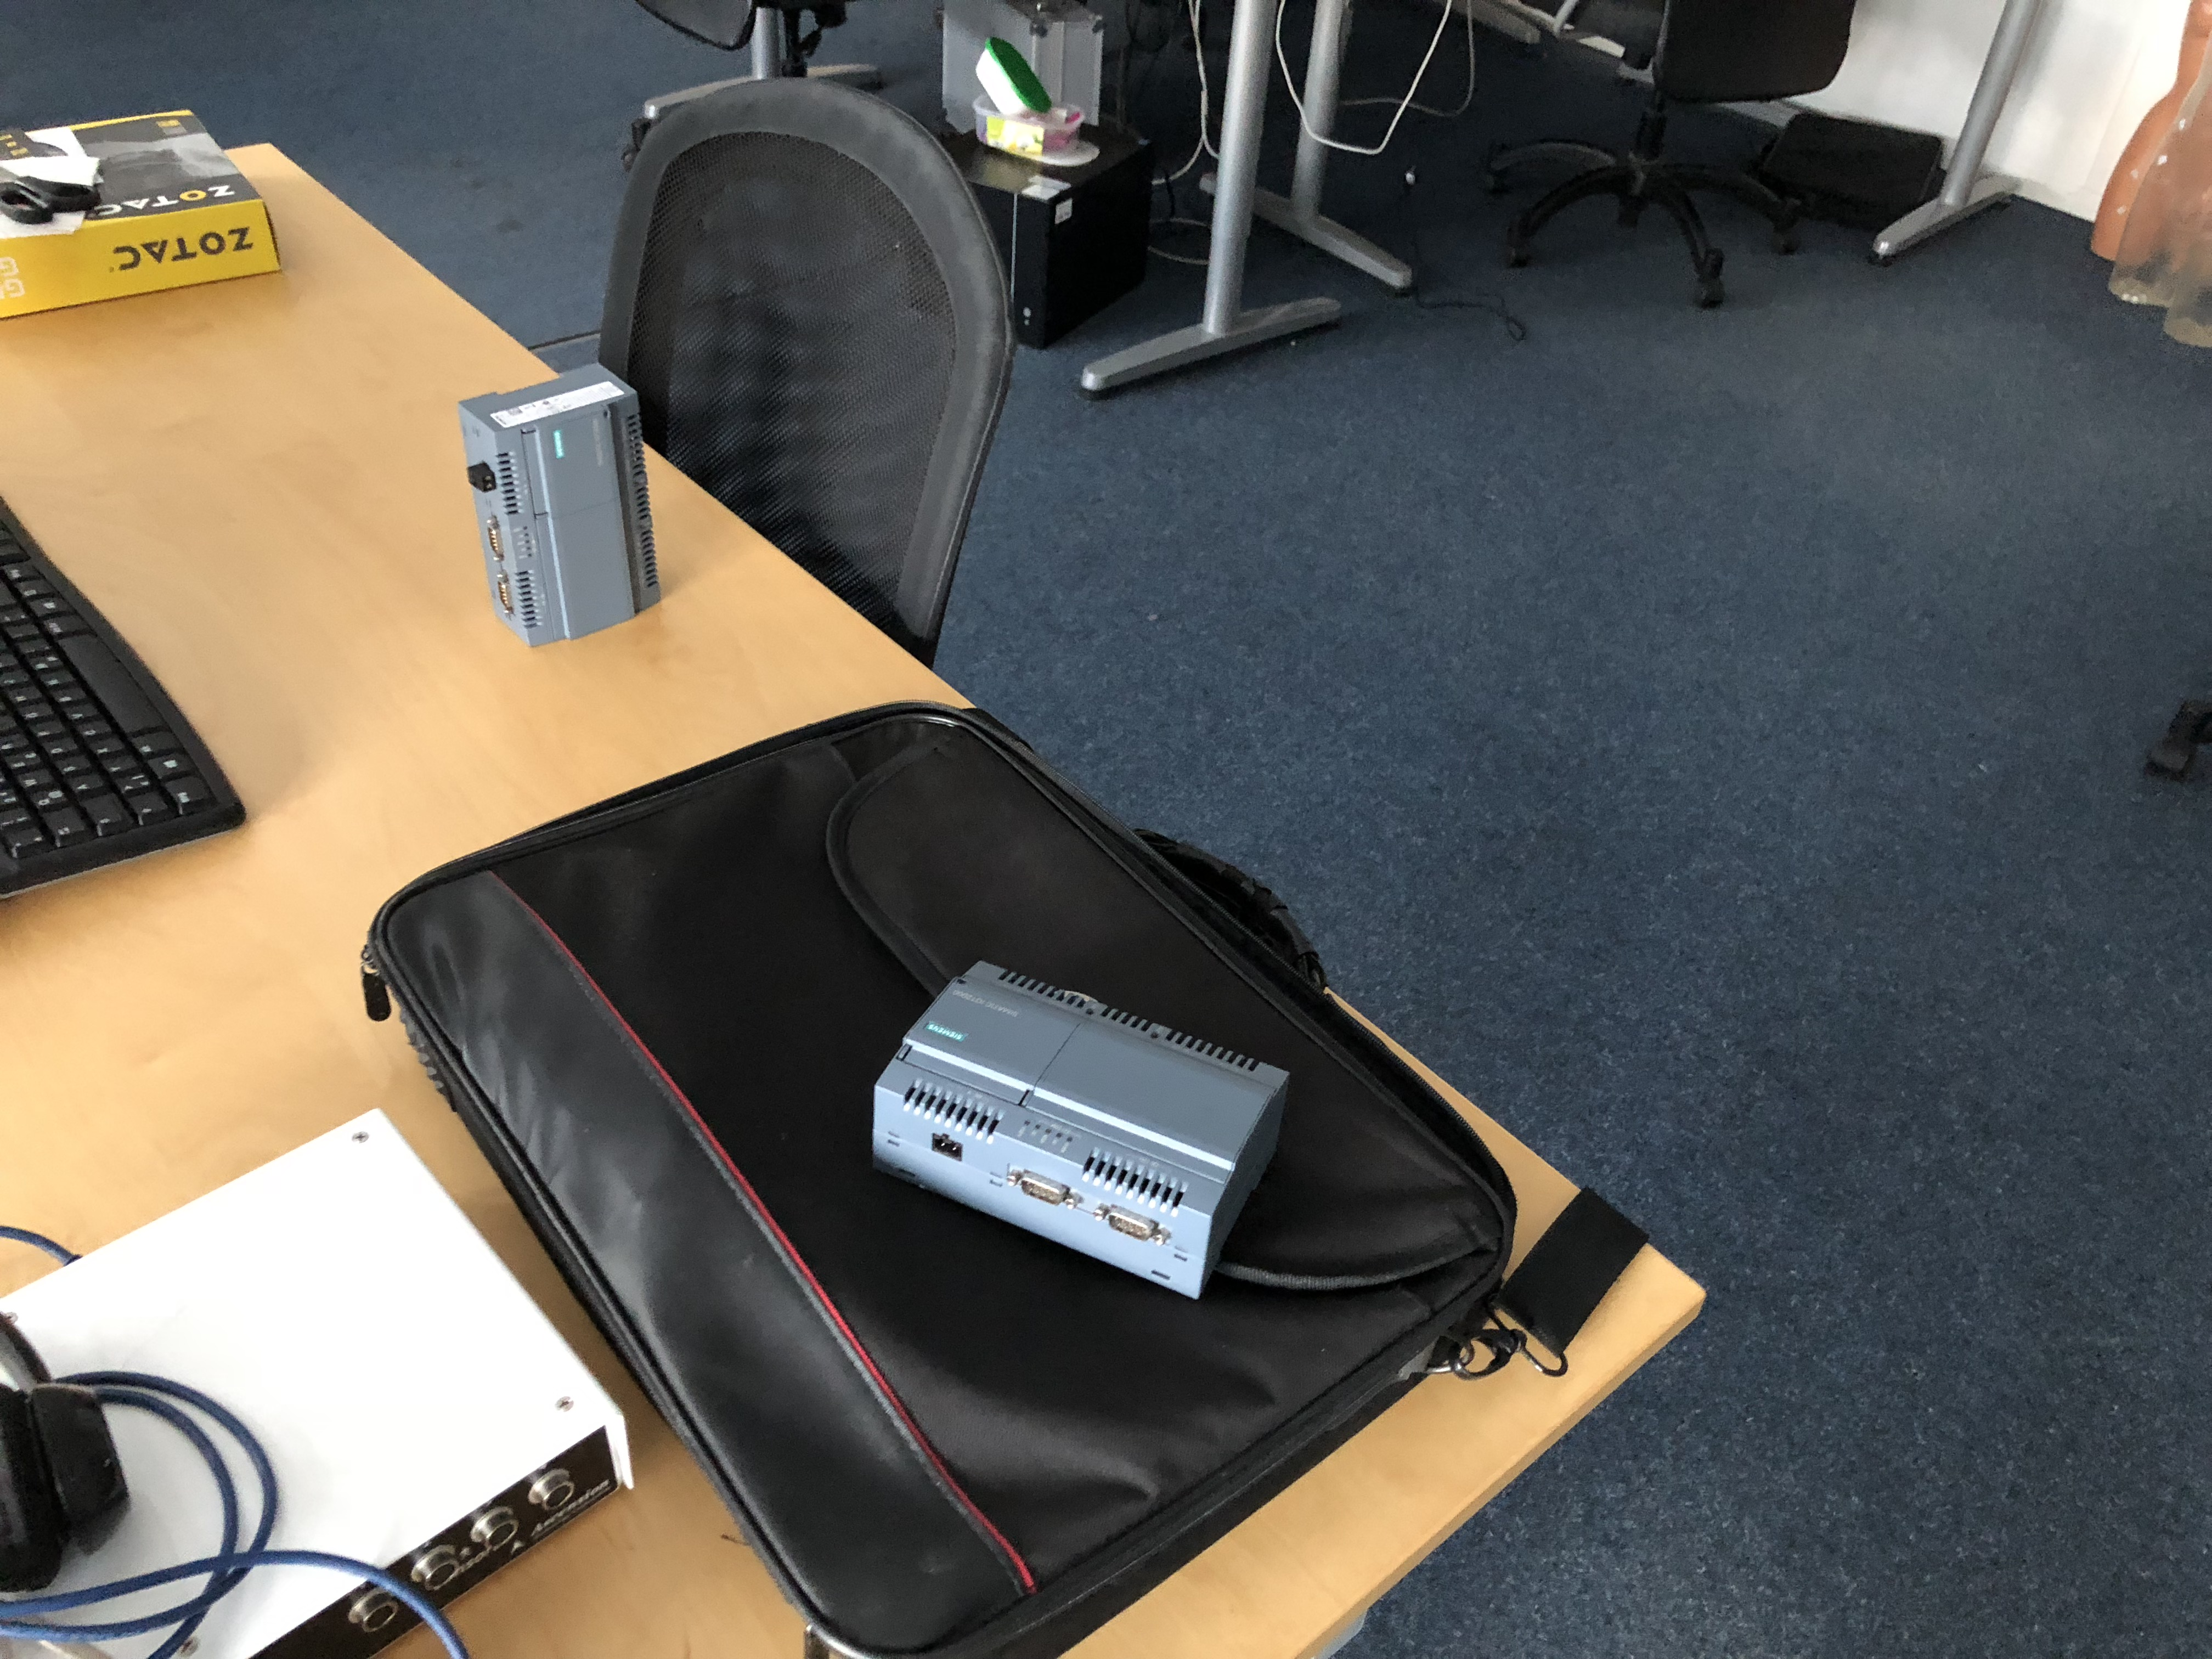device: (871, 960, 1291, 1300)
